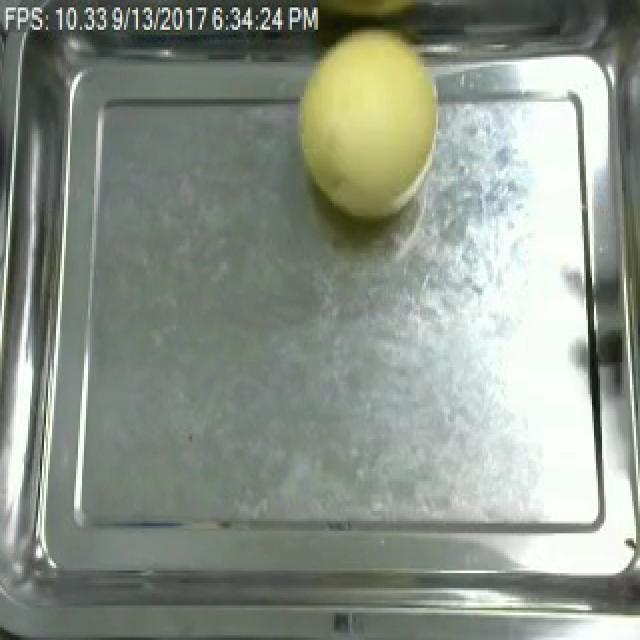Fruit: (284, 20, 452, 228)
